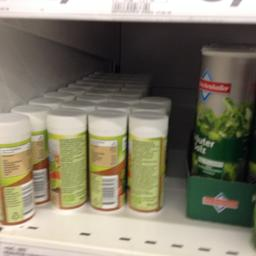spices: (188, 44, 254, 180), (45, 106, 88, 212), (0, 110, 37, 228), (86, 108, 127, 212), (128, 112, 167, 213)
